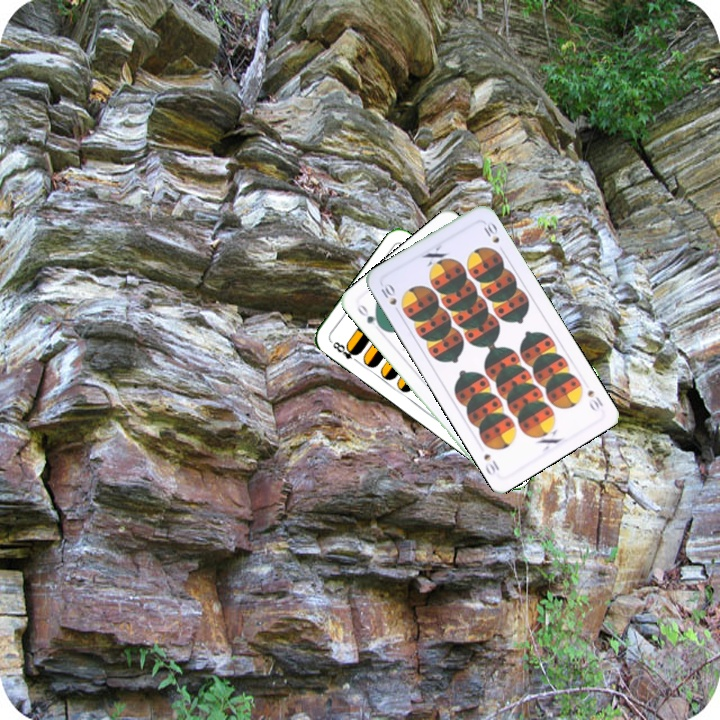E8: (327, 337, 362, 366)
GO: (353, 300, 386, 332)
S10: (377, 279, 403, 317), (583, 386, 606, 414)
